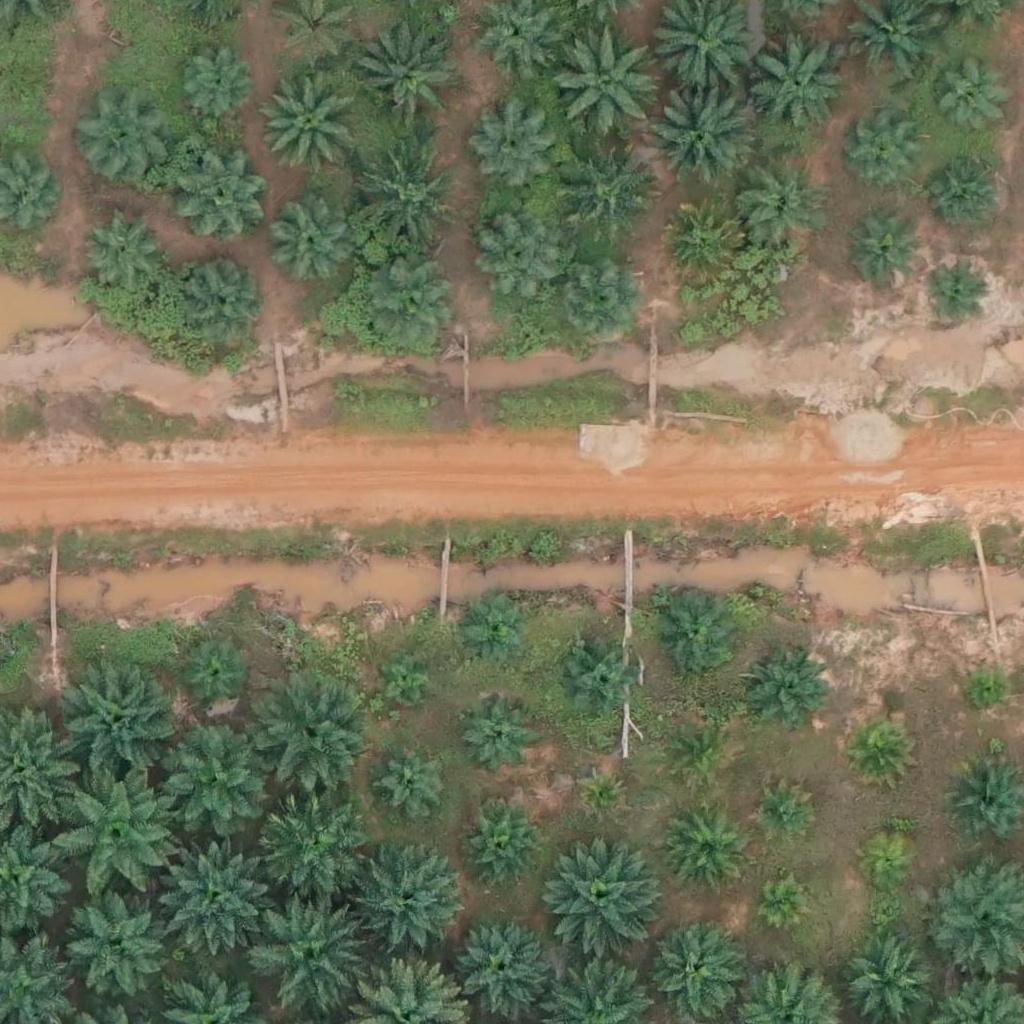Kelapa_Sawit: (546, 836, 659, 950), (158, 841, 271, 955), (260, 796, 373, 909), (252, 679, 365, 792), (158, 724, 271, 837), (647, 79, 760, 192), (251, 901, 363, 1015), (62, 773, 174, 887), (547, 25, 659, 139), (356, 844, 468, 957), (65, 664, 177, 777), (347, 148, 459, 261), (454, 917, 554, 1018), (746, 36, 846, 137), (554, 141, 654, 242), (356, 34, 456, 135), (260, 74, 360, 175), (71, 91, 171, 192), (646, 919, 746, 1019), (69, 889, 169, 989), (365, 261, 465, 361), (169, 141, 269, 241), (552, 633, 640, 721), (458, 800, 546, 888), (654, 199, 742, 287), (466, 105, 554, 193), (180, 249, 268, 337), (477, 212, 564, 301), (653, 589, 740, 677), (662, 804, 749, 892), (739, 166, 826, 254), (555, 258, 642, 346), (174, 43, 261, 131), (272, 202, 359, 290), (80, 203, 167, 291), (749, 657, 824, 733), (458, 699, 533, 775), (928, 63, 1003, 139), (930, 151, 1005, 227), (848, 118, 923, 193), (846, 218, 921, 293), (460, 596, 523, 659), (182, 644, 245, 707), (849, 717, 912, 780), (919, 259, 982, 322), (381, 751, 443, 814), (672, 723, 734, 786), (859, 836, 909, 887), (761, 879, 811, 929), (756, 787, 806, 837), (383, 656, 433, 706), (965, 671, 1002, 709), (580, 772, 617, 809)
